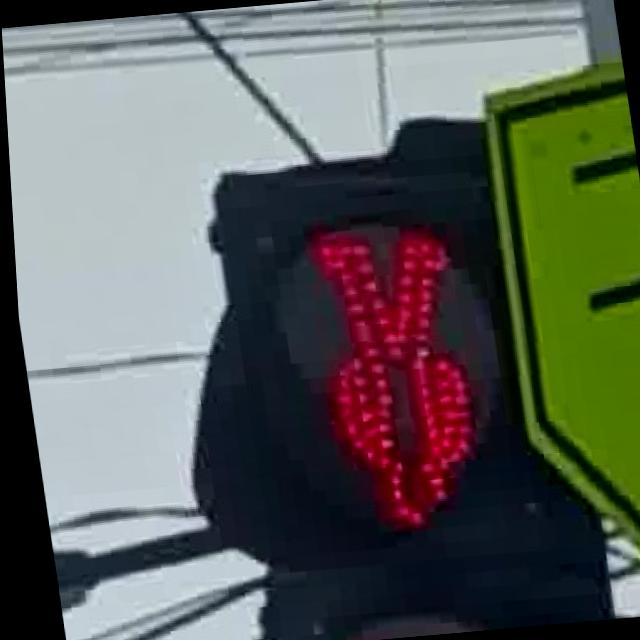red_light: (262, 210, 529, 546)
